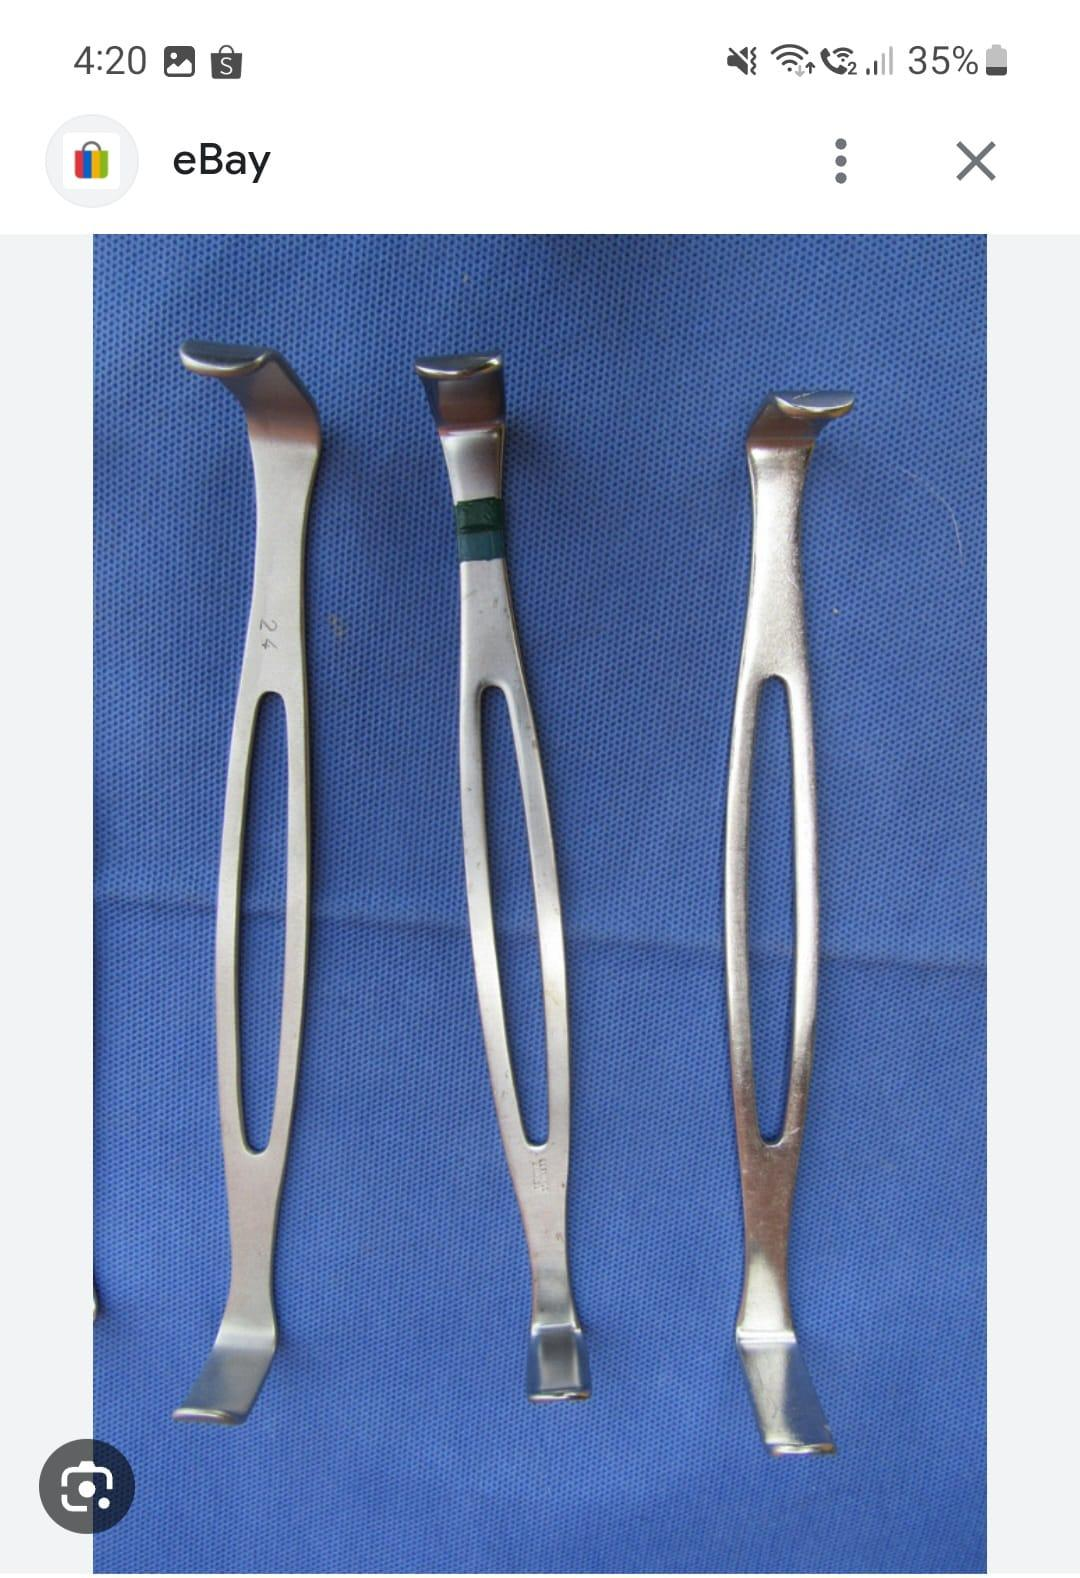Army Navy Retractor: (390, 332, 658, 1408), (145, 327, 366, 1438), (693, 371, 898, 1490)
